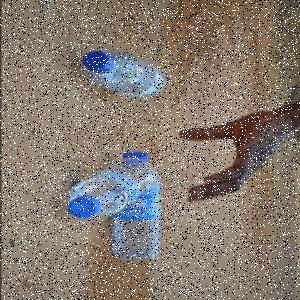Plastic-bottle: (67, 160, 158, 224), (112, 152, 162, 266), (82, 52, 167, 101)
